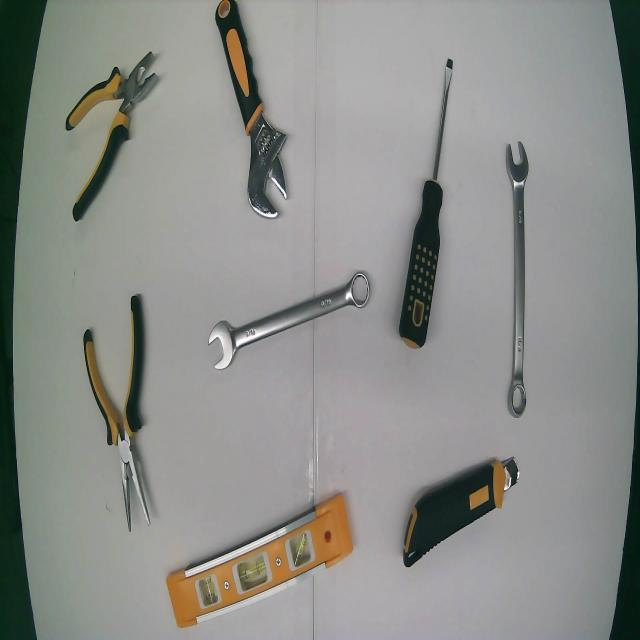estilete: (403, 458, 517, 566)
